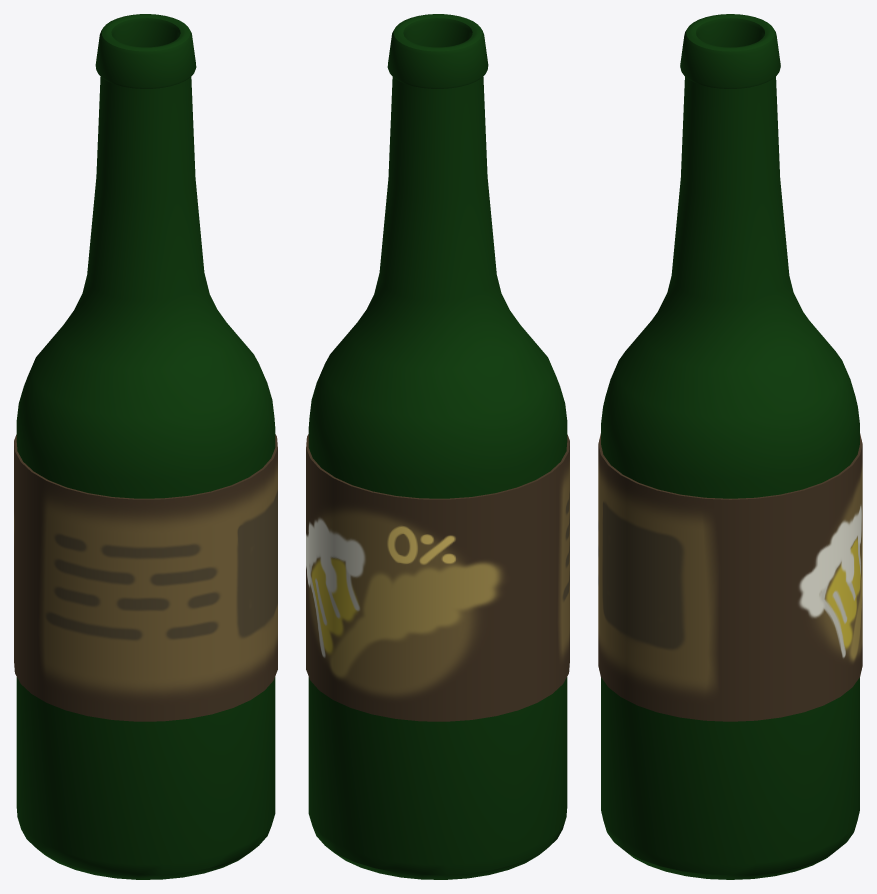
File: Beerbottle1.fbx
The picture shows the model from 3 angles, left to right: view 1: azimuth 30°, elevation 25°; view 2: azimuth 150°, elevation 25°; view 3: azimuth 270°, elevation 25°; orthographic projection.
Parts seen in each view (by area): view 1: Beerbottle; view 2: Beerbottle; view 3: Beerbottle.
Boxes of the visible parts, bbox=[...] form: Beerbottle: bbox=[14, 14, 277, 879]; Beerbottle: bbox=[306, 14, 569, 879]; Beerbottle: bbox=[598, 14, 862, 879].
Size of the model in its own units: 37.02 by 124 by 37.02.
Materials: 2 (1 with a texture image).
